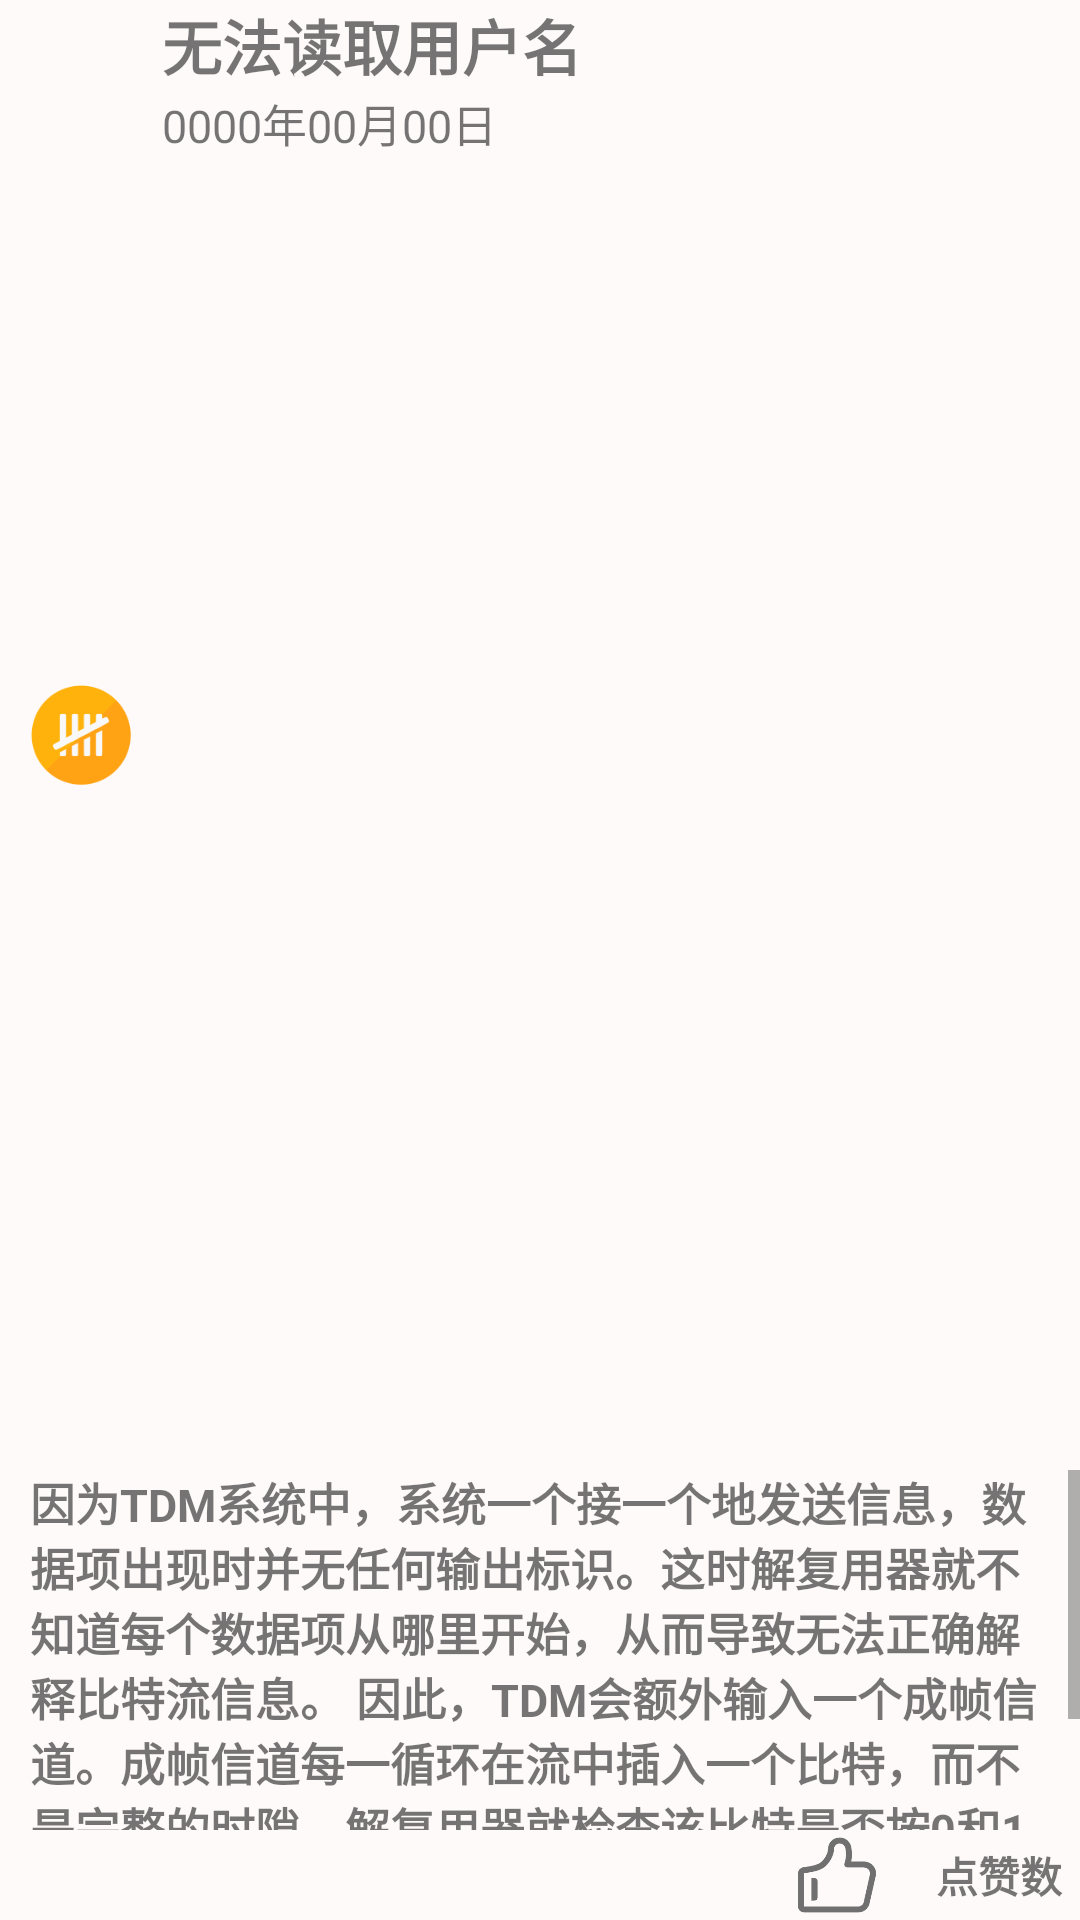

Icons on this 1080px×1920px Android screen, each with the point to tap as (x,y):
like: (837,1875)
